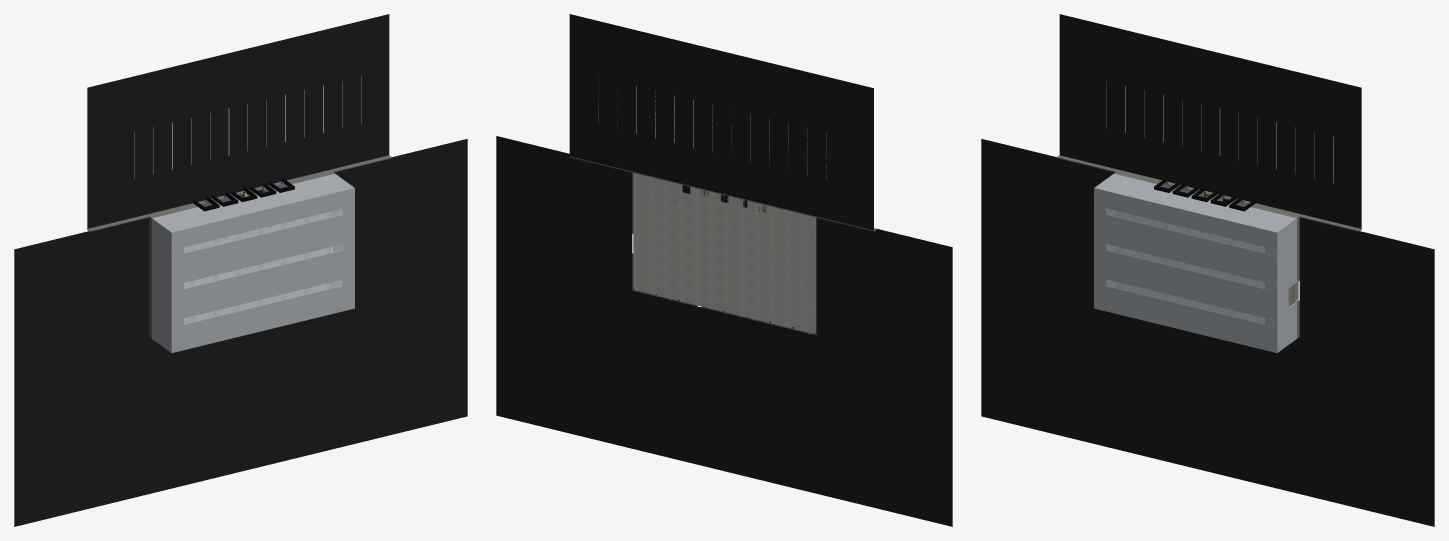
File: warehouse_shell.obj
The picture shows the model from 3 angles, left to right: view 1: azimuth 30°, elevation 25°; view 2: azimuth 150°, elevation 25°; view 3: azimuth 330°, elevation 25°; orthographic projection.
Parts seen in each view (by area): view 1: EXPORT_shell; view 2: EXPORT_shell; view 3: EXPORT_shell.
Part boxes in pixels (x1,y1,x2,y2): EXPORT_shell: (14,14,467,526); EXPORT_shell: (496,14,952,526); EXPORT_shell: (981,14,1434,526).
Size of the model in its own units: 120 by 106 by 11.46.
Materials: 24 (2 with a texture image).
